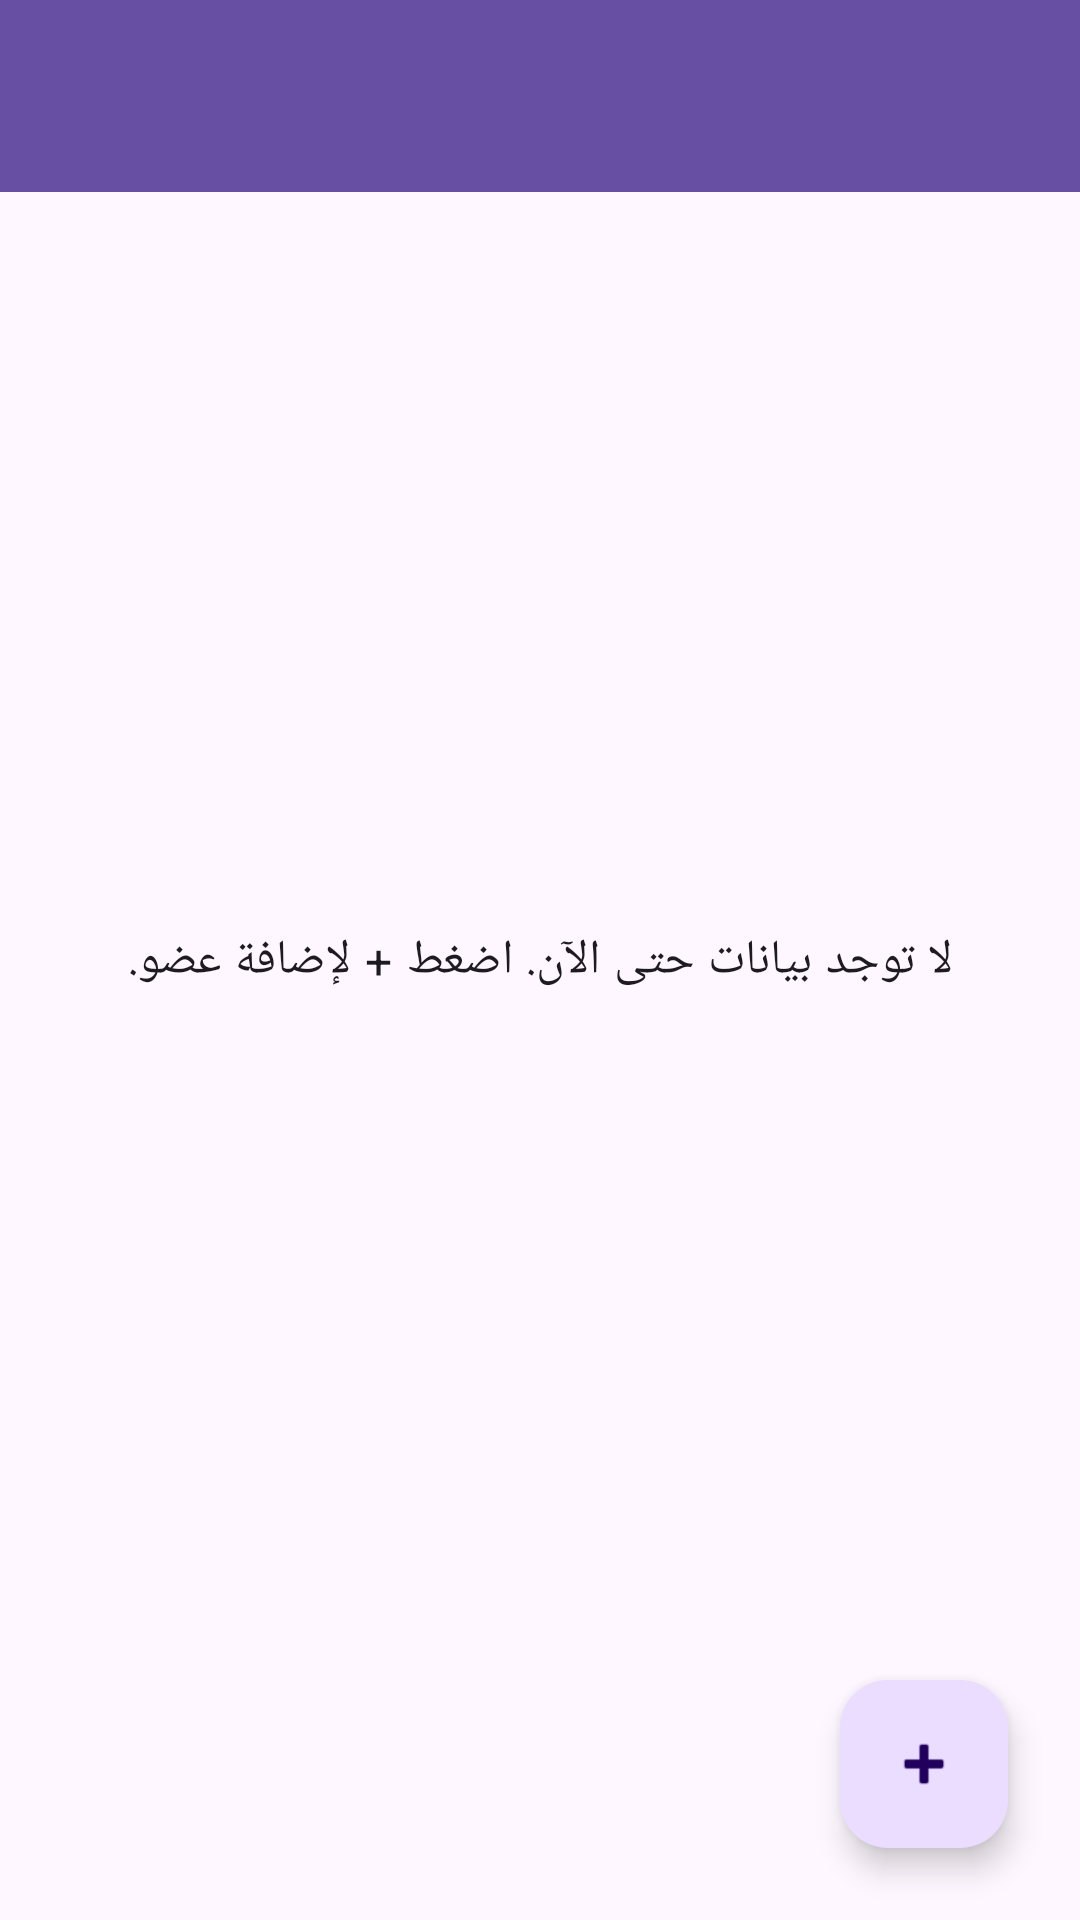

Where icons sit on this 1080×1920 app screen, as (x1, y1, x2, y2):
إضافة عضو: (840, 1680, 1008, 1848)
